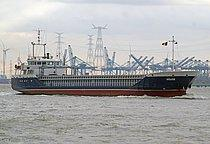Ship: (9, 34, 203, 105)
